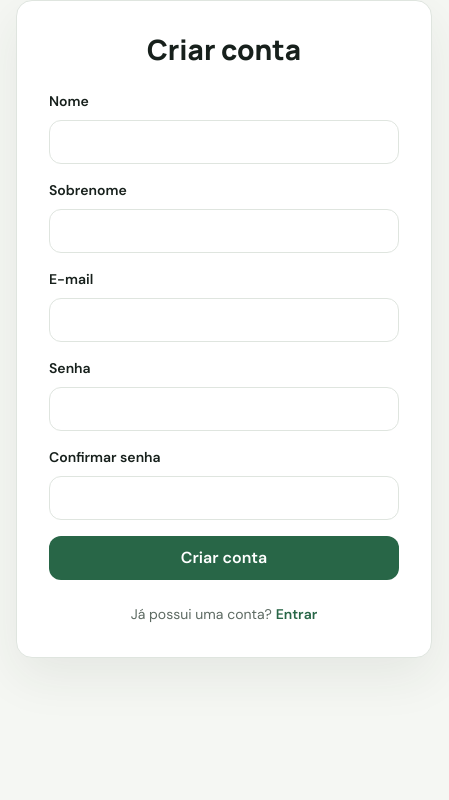
Test: RegisterPage — validação › apresenta erro quando a confirmação não coincide
Type "12345678" into the password field labelled "Senha" at [224, 409], box [49, 387, 399, 431]
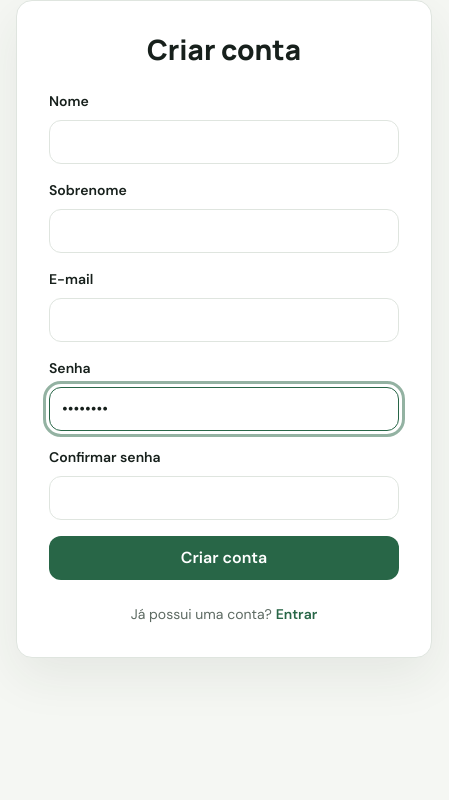
Type "87654321" into the password field labelled "Confirmar senha" at [224, 498], box [49, 476, 399, 520]
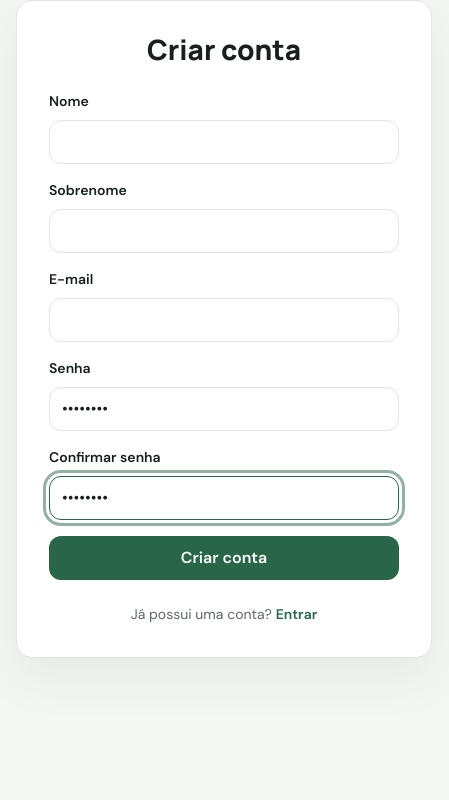
Click the button "Criar conta" at [224, 558], box [49, 536, 399, 580]
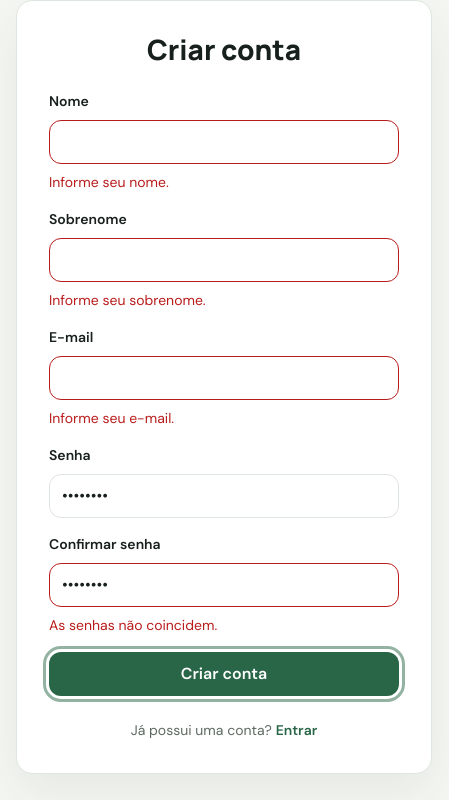
expect the text "As senhas não coincidem." is shown: met, box [49, 616, 217, 634]
